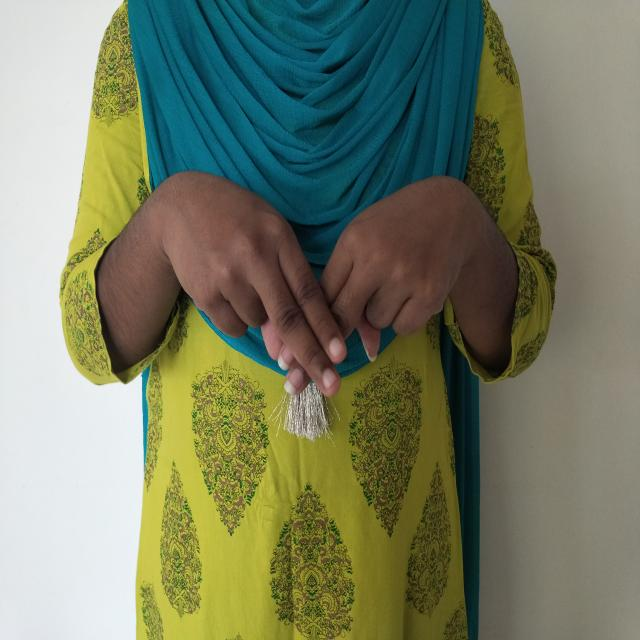F: (149, 167, 490, 408)
